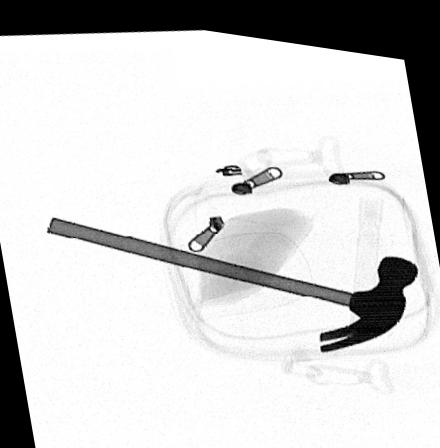Hammer: (46, 215, 420, 343)
